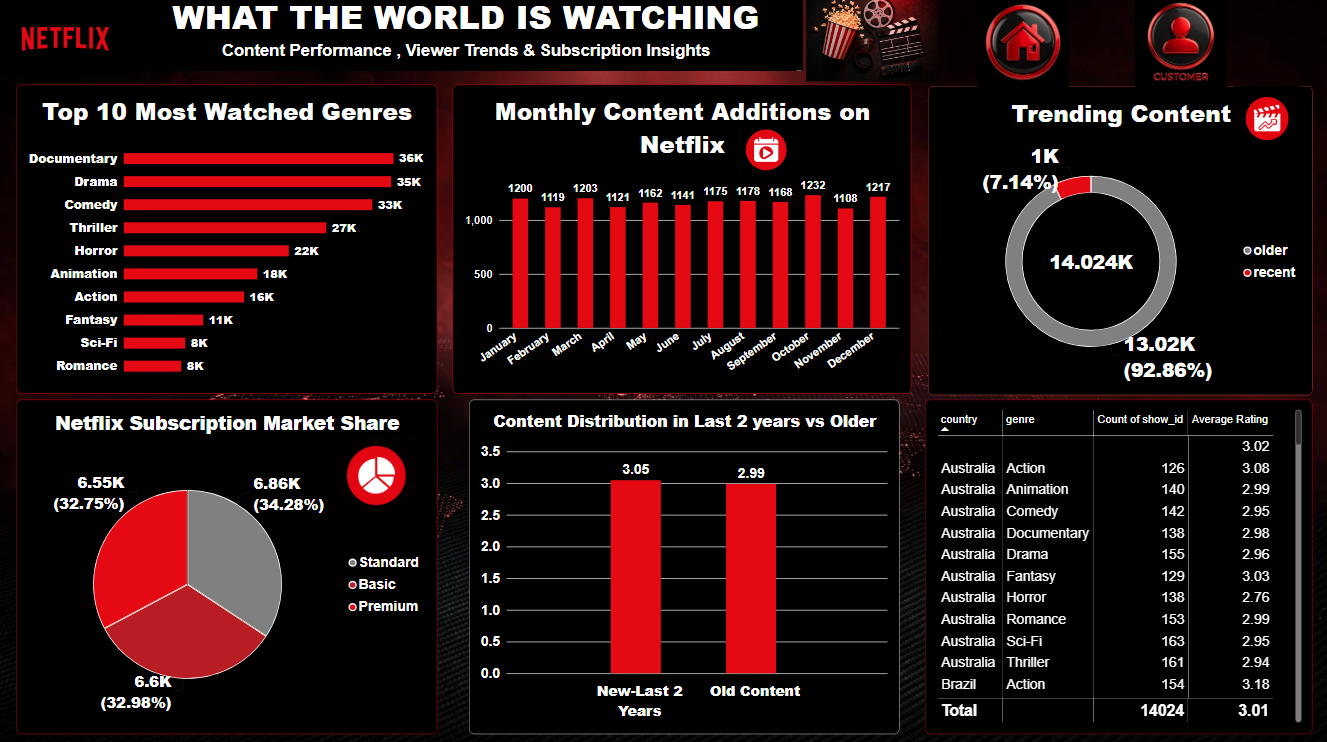

Layout of this report page (visuals, bound fields, positions):
{"tool":"powerbi","page":{"name":"CONTENT","canvas":[1920,1080],"ordinal":1},"visuals":[{"type":"pieChart","title":"Netflix Subscription Market Share","fields":{"Category":["netflix_customer_ratings_20000.subscription_type"],"Y":["Count(netflix_customer_ratings_20000.customer_id)"]},"box":[34.5,584.6,606.2,481],"z":0},{"type":"donutChart","title":"Trending Content","fields":{"Category":["netflix_dataset_20000 csv.Content Age"],"Y":["CountNonNull(netflix_dataset_20000 csv.show_id)"]},"box":[1346.1,133.7,554.4,444.4],"z":3000},{"type":"clusteredColumnChart","title":"Content Distribution in Last 2 years vs Older","fields":{"Category":["netflix_dataset_20000 csv.if new content"],"Y":["netflix_customer_ratings_20000.Average Rating"]},"box":[686,584.6,619.1,481],"z":4000},{"type":"clusteredBarChart","title":"Top 10 Most Watched Genres","fields":{"Category":["netflix_dataset_20000 csv.genre"],"Y":["Sum(netflix_customer_ratings_20000.watch_time_minutes)"]},"box":[34.5,131.6,606.2,444.4],"z":4001},{"type":"tableEx","fields":{"Values":["netflix_dataset_20000 csv.country","netflix_dataset_20000 csv.genre","netflix_dataset_20000 csv.show_id","netflix_customer_ratings_20000.Average Rating"]},"box":[1341.8,584.6,558.7,481],"z":4003},{"type":"columnChart","title":"Monthly Content Additions on Netflix","fields":{"Category":["netflix_dataset_20000 csv.Month Name"],"Y":["CountNonNull(netflix_dataset_20000 csv.show_id)"]},"box":[662.3,131.6,660.1,444.4],"z":4004},{"type":"image","box":[12.9,0,185.5,131.6],"z":4005},{"type":"textbox","title":"WHAT THE WORLD IS WATCHING","box":[198.5,0,966.4,112.2],"z":4006},{"type":"image","box":[1382.7,4.3,199.9,131.7],"z":4007},{"type":"image","box":[1624.3,4.3,170.3,131.7],"z":4008},{"type":"image","box":[1061.3,185.5,103.5,79.8],"z":4009},{"type":"image","box":[1766.7,133.7,133.7,92.8],"z":4010},{"type":"image","box":[485.4,636.4,133.7,114.3],"z":4011},{"type":"image","box":[1031.1,0,470.3,127.3],"z":4012}]}

Visuals, with their boxes in screenshot pixels (x1, y1, x2, y2), scaled from the page's 1920x1080 canvas onto the 1327x742 screenshot:
"Netflix Subscription Market Share" pieChart: 24 402 443 732
"Trending Content" donutChart: 930 92 1314 397
"Content Distribution in Last 2 years vs Older" clusteredColumnChart: 474 402 902 732
"Top 10 Most Watched Genres" clusteredBarChart: 24 90 443 396
tableEx - netflix_dataset_20000 csv.country x netflix_dataset_20000 csv.genre: 927 402 1314 732
"Monthly Content Additions on Netflix" columnChart: 458 90 914 396
image: 9 0 137 90
"WHAT THE WORLD IS WATCHING" textbox: 137 0 805 77
image: 956 3 1094 93
image: 1123 3 1240 93
image: 734 127 805 182
image: 1221 92 1313 156
image: 335 437 428 516
image: 713 0 1038 87
